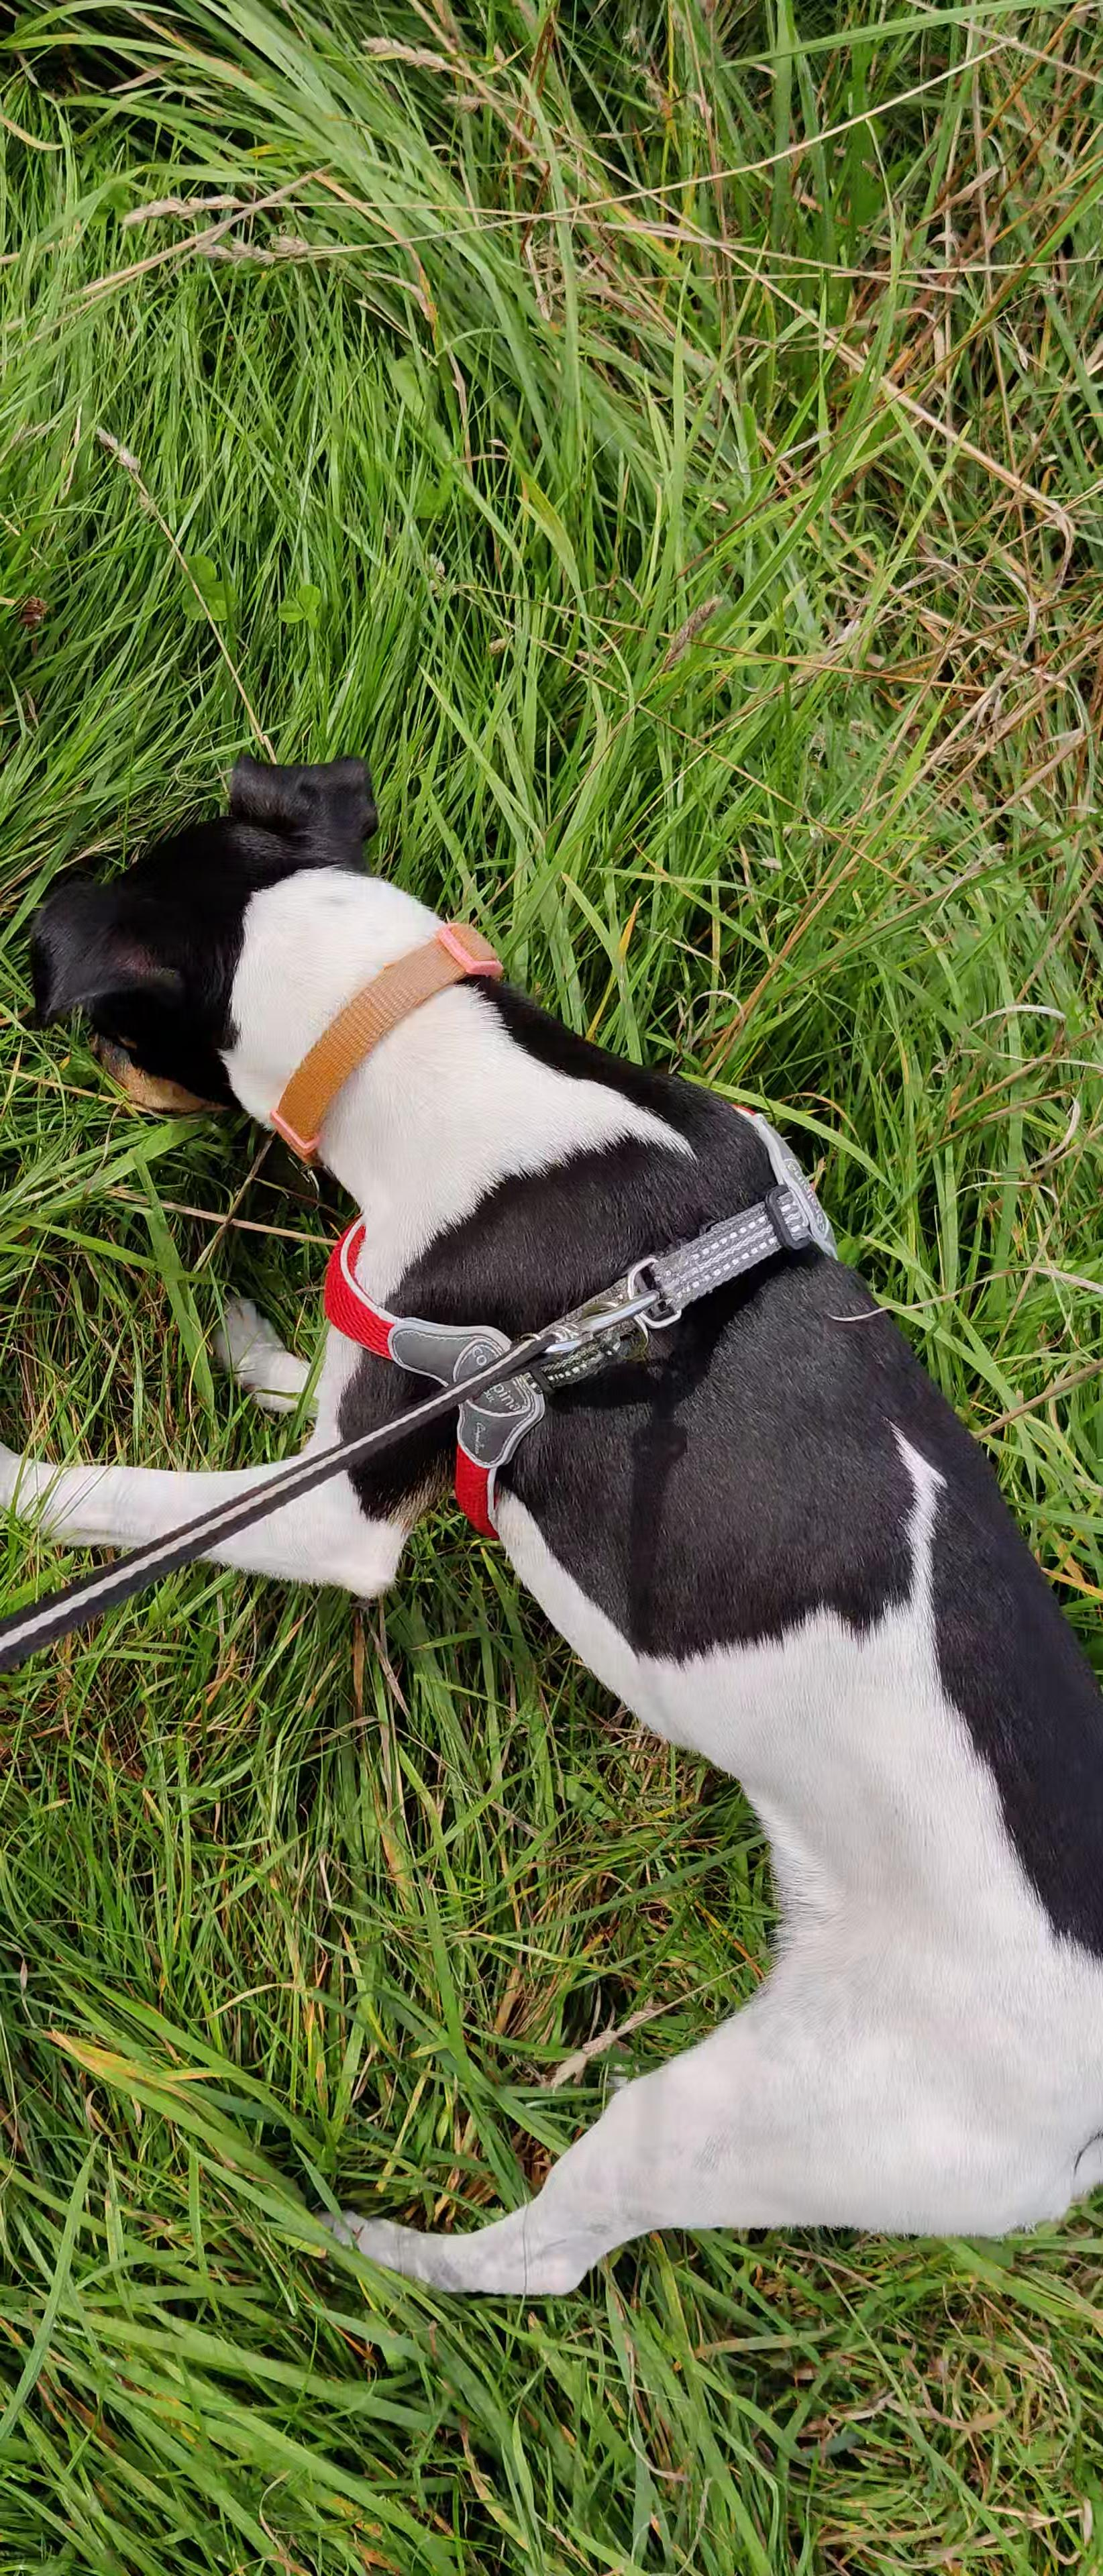Dog: (0, 724, 1103, 2316)
